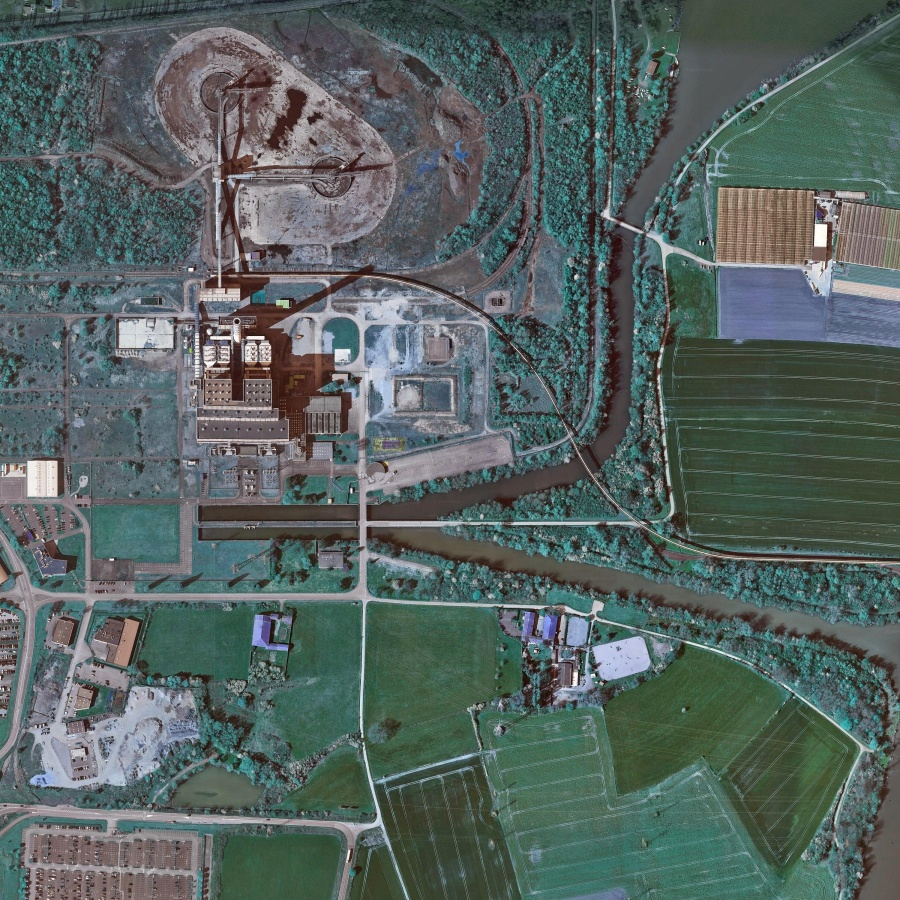PowerPlant: (122, 27, 395, 453)
